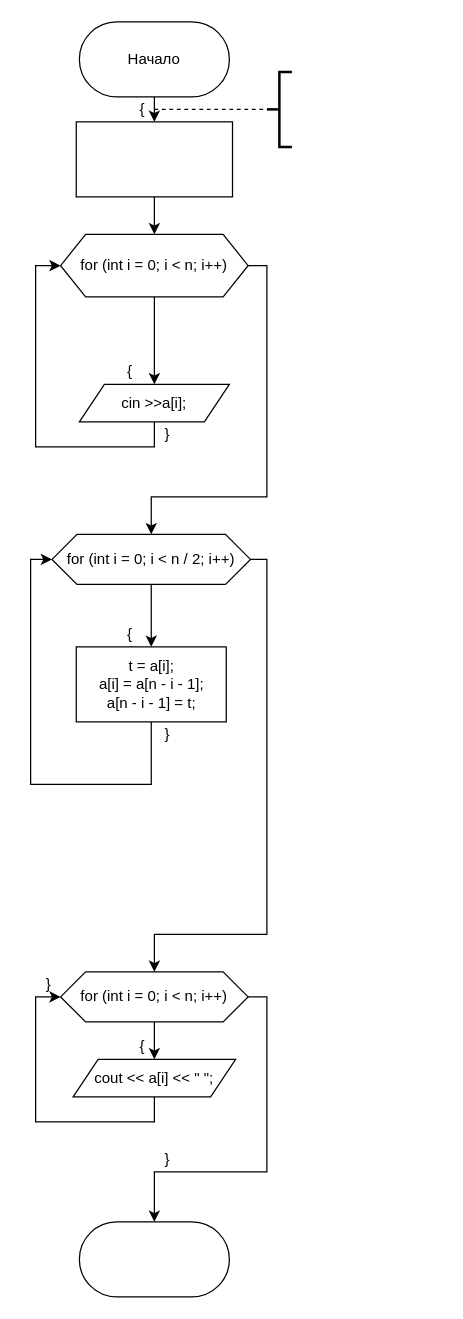
Some shapes in this 463 by 1319 pixel diagram are drawn without their labels. The shapes that lost their labels are listed below. From the top down, each one's centre as x and y in pixels, then its label:
the point at 278,109: #include <iostream> using namespace std; int main()
the point at 153,159: int n, t; n = 6; int a[6];
the point at 153,1259: Конец
